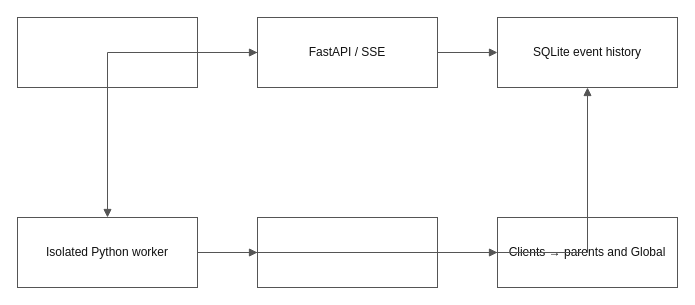
The diagram is 695 pixels wide and 305 high, and some of its shapes have lost their labels. Each missing label, with the centre of its shape:
Next.js workbench: pixel 107 52
Original RFL runner: pixel 347 252
